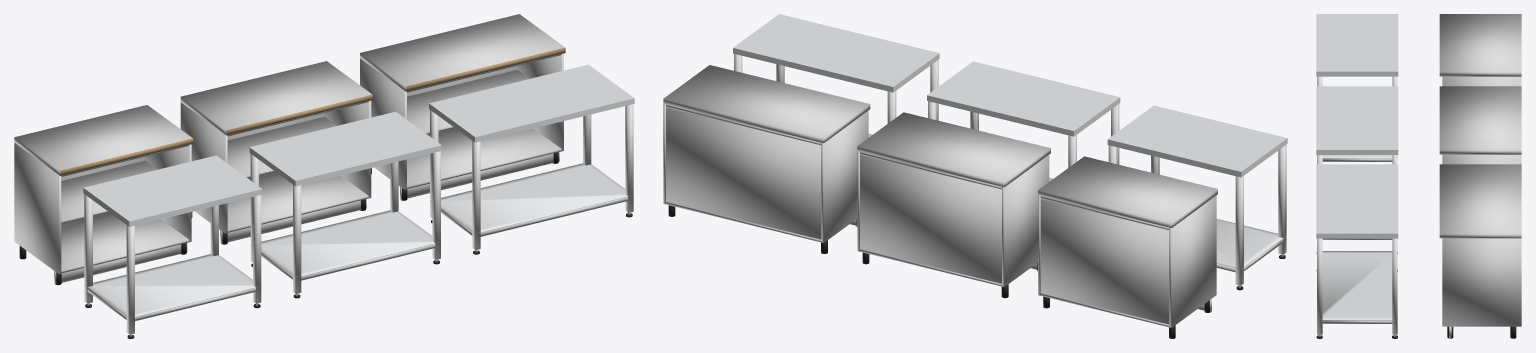
Rendered from Arbeitstisch.glb.
The picture shows the model from 3 angles, left to right: view 1: azimuth 30°, elevation 25°; view 2: azimuth 150°, elevation 25°; view 3: azimuth 270°, elevation 25°; orthographic projection. The views are drawn at different scales.
Parts seen in each view (by area): view 1: Arbeitstisch_1200x600x850_Arbeitsplatte, Arbeitstisch_1100x600x850_Arbeitsplatte, Arbeitstisch_Holz_1200x600x850_Arbeitsplatte, Arbeitstisch_1000x600x850_Arbeitsplatte, Arbeitstisch_Holz_1100x600x850_Arbeitsplatte, Arbeitstisch_1200x600x850_Grundboden, Arbeitstisch_Holz_1000x600x850_Arbeitsplatte, Arbeitstisch_1100x600x850_Grundboden, Arbeitstisch_1000x600x850_Grundboden, Arbeitstisch_Holz_1000x600x850_Seitenwand_L, Arbeitstisch_Holz_1200x600x850_Boden, Arbeitstisch_Holz_1000x600x850_Boden (+24 smaller); view 2: Arbeitstisch_Holz_1200x600x850_Rueckwand, Arbeitstisch_Holz_1100x600x850_Rueckwand, Arbeitstisch_Holz_1000x600x850_Rueckwand, Arbeitstisch_1200x600x850_Arbeitsplatte, Arbeitstisch_Holz_1200x600x850_Arbeitsplatte, Arbeitstisch_1100x600x850_Arbeitsplatte, Arbeitstisch_Holz_1100x600x850_Arbeitsplatte, Arbeitstisch_1000x600x850_Arbeitsplatte, Arbeitstisch_Holz_1000x600x850_Arbeitsplatte, Arbeitstisch_Holz_1000x600x850_Seitenwand_L, Arbeitstisch_Holz_1200x600x850_Seitenwand_L, Arbeitstisch_Holz_1100x600x850_Seitenwand_L (+8 smaller); view 3: Arbeitstisch_Holz_1200x600x850_Seitenwand_R, Arbeitstisch_1200x600x850_Arbeitsplatte, Arbeitstisch_Holz_1200x600x850_Arbeitsplatte, Arbeitstisch_1100x600x850_Arbeitsplatte, Arbeitstisch_Holz_1100x600x850_Arbeitsplatte, Arbeitstisch_1000x600x850_Arbeitsplatte, Arbeitstisch_Holz_1000x600x850_Arbeitsplatte, Arbeitstisch_1200x600x850_Grundboden, Arbeitstisch_1200x600x850, Arbeitstisch_Holz_1000x600x850_Seitenwand_R, Arbeitstisch_Holz_1100x600x850_Seitenwand_R, Arbeitstisch_1000x600x850_Grundboden_Kante_R (+2 smaller).
Boxes of the visible parts, x1,y1,x2,y2 form: Arbeitstisch_1200x600x850_Arbeitsplatte: [429, 64, 634, 142]; Arbeitstisch_1100x600x850_Arbeitsplatte: [249, 111, 441, 186]; Arbeitstisch_Holz_1200x600x850_Arbeitsplatte: [360, 14, 564, 91]; Arbeitstisch_1000x600x850_Arbeitsplatte: [83, 155, 262, 226]; Arbeitstisch_Holz_1100x600x850_Arbeitsplatte: [180, 61, 371, 134]; Arbeitstisch_1200x600x850_Grundboden: [441, 163, 628, 232]; Arbeitstisch_Holz_1000x600x850_Arbeitsplatte: [14, 105, 192, 175]; Arbeitstisch_1100x600x850_Grundboden: [261, 210, 435, 276]; Arbeitstisch_1000x600x850_Grundboden: [87, 254, 255, 316]; Arbeitstisch_Holz_1000x600x850_Seitenwand_L: [14, 143, 61, 273]; Arbeitstisch_Holz_1200x600x850_Boden: [407, 128, 561, 188]; Arbeitstisch_Holz_1000x600x850_Boden: [61, 215, 189, 273]; Arbeitstisch_Holz_1200x600x850_Rueckwand: [666, 107, 821, 239]; Arbeitstisch_Holz_1100x600x850_Rueckwand: [860, 155, 1001, 283]; Arbeitstisch_Holz_1000x600x850_Rueckwand: [1040, 199, 1169, 324]; Arbeitstisch_1200x600x850_Arbeitsplatte: [733, 14, 939, 92]; Arbeitstisch_Holz_1200x600x850_Arbeitsplatte: [663, 65, 869, 143]; Arbeitstisch_1100x600x850_Arbeitsplatte: [927, 61, 1120, 136]; Arbeitstisch_Holz_1100x600x850_Arbeitsplatte: [857, 112, 1050, 187]; Arbeitstisch_1000x600x850_Arbeitsplatte: [1107, 105, 1287, 177]; Arbeitstisch_Holz_1000x600x850_Arbeitsplatte: [1038, 156, 1217, 227]; Arbeitstisch_Holz_1000x600x850_Seitenwand_L: [1169, 195, 1216, 327]; Arbeitstisch_Holz_1200x600x850_Seitenwand_L: [821, 111, 868, 242]; Arbeitstisch_Holz_1100x600x850_Seitenwand_L: [1002, 155, 1049, 286]; Arbeitstisch_Holz_1200x600x850_Seitenwand_R: [1442, 238, 1521, 326]; Arbeitstisch_1200x600x850_Arbeitsplatte: [1316, 164, 1398, 238]; Arbeitstisch_Holz_1200x600x850_Arbeitsplatte: [1439, 164, 1521, 238]; Arbeitstisch_1100x600x850_Arbeitsplatte: [1316, 86, 1398, 154]; Arbeitstisch_Holz_1100x600x850_Arbeitsplatte: [1439, 86, 1521, 154]; Arbeitstisch_1000x600x850_Arbeitsplatte: [1316, 14, 1398, 76]; Arbeitstisch_Holz_1000x600x850_Arbeitsplatte: [1439, 14, 1521, 76]; Arbeitstisch_1200x600x850_Grundboden: [1322, 251, 1392, 320]; Arbeitstisch_1200x600x850: [1316, 238, 1397, 338]; Arbeitstisch_Holz_1000x600x850_Seitenwand_R: [1442, 76, 1521, 86]; Arbeitstisch_Holz_1100x600x850_Seitenwand_R: [1442, 154, 1521, 164]; Arbeitstisch_1000x600x850_Grundboden_Kante_R: [1322, 158, 1392, 161].
Size of the model in its own units: 38 by 8.5 by 15.
